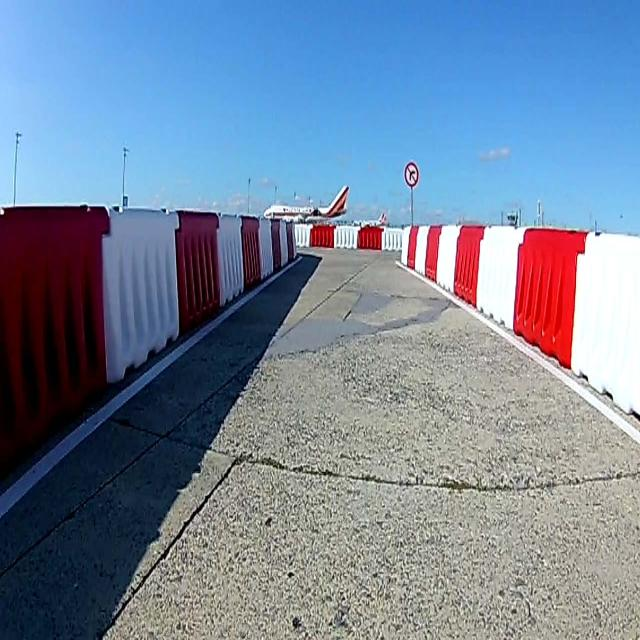sagadonulmez: (405, 162, 418, 186)
